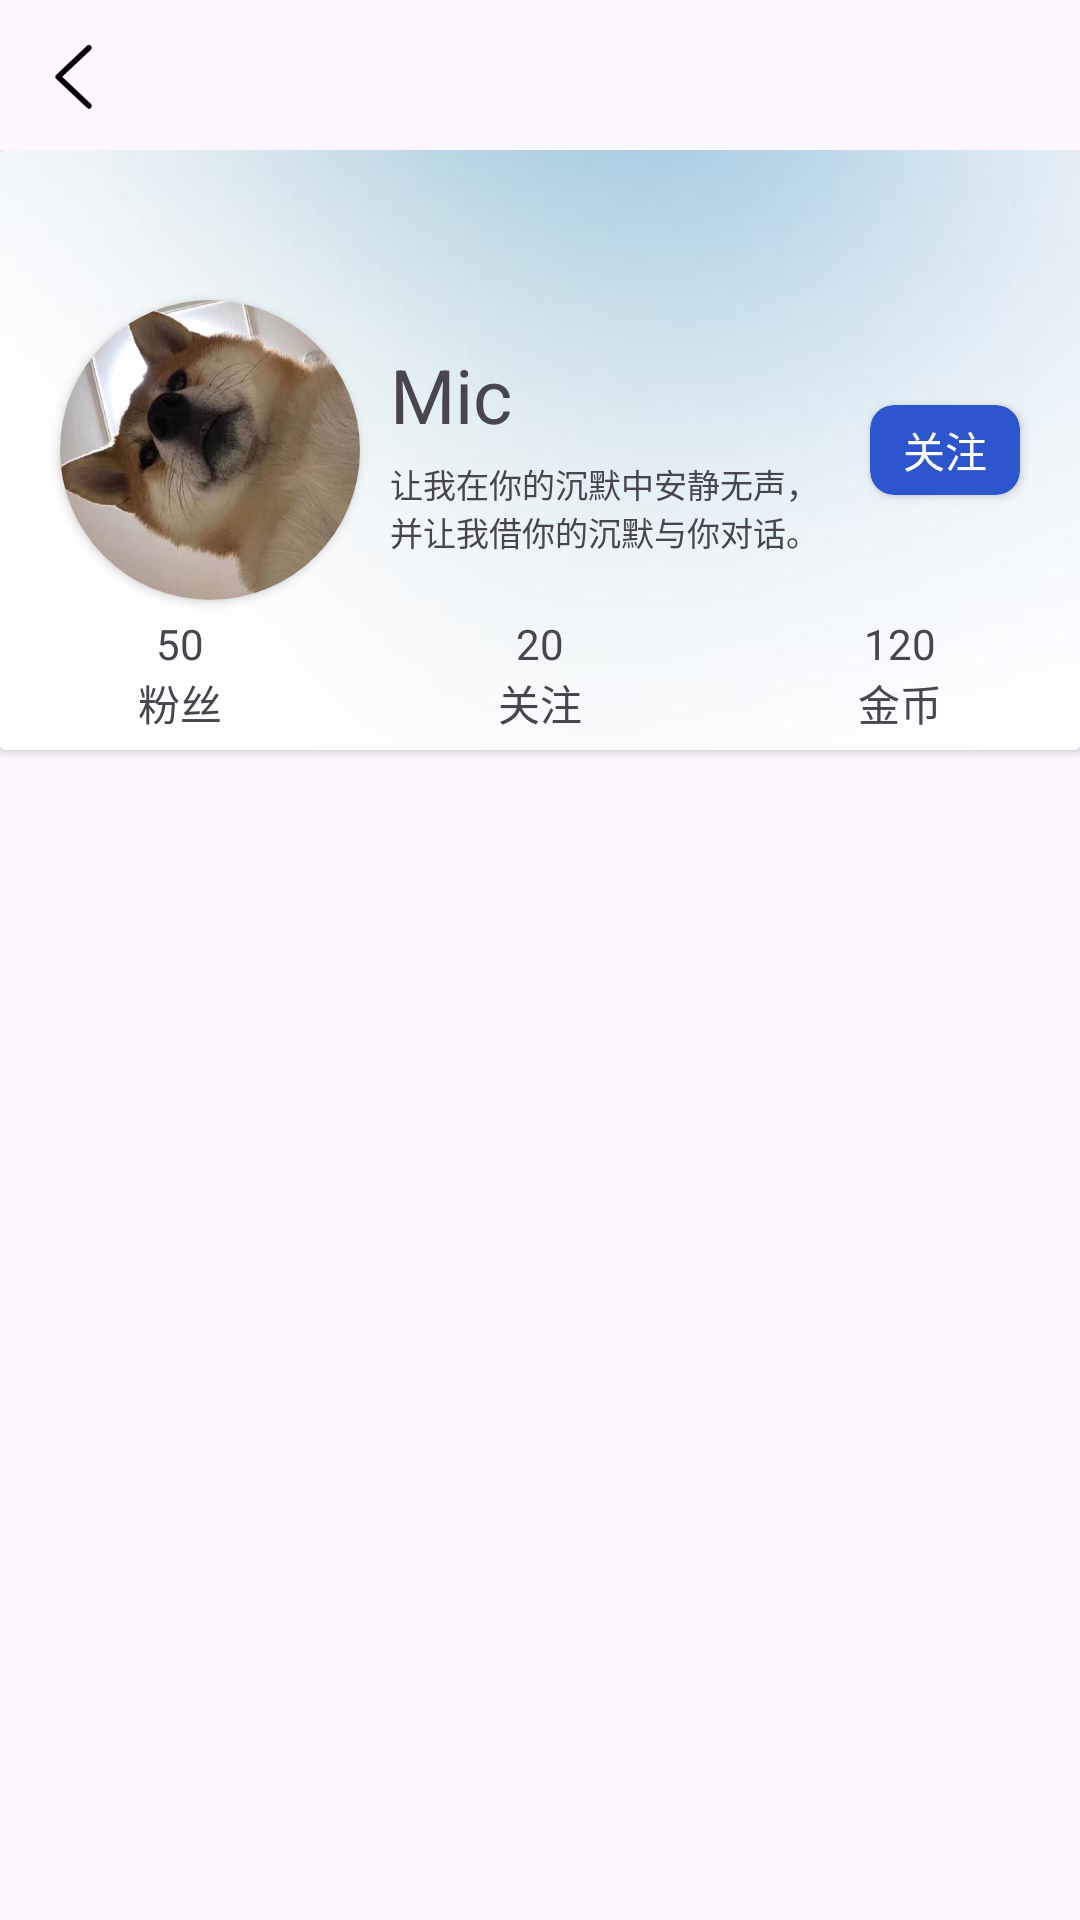

Screen size 1080px x 1920px. Icon name, then its center in pixels as point (x, y):
back: point (73, 77)
user: point (210, 450)
